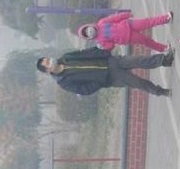person: (34, 48, 176, 99), (78, 10, 172, 52)
